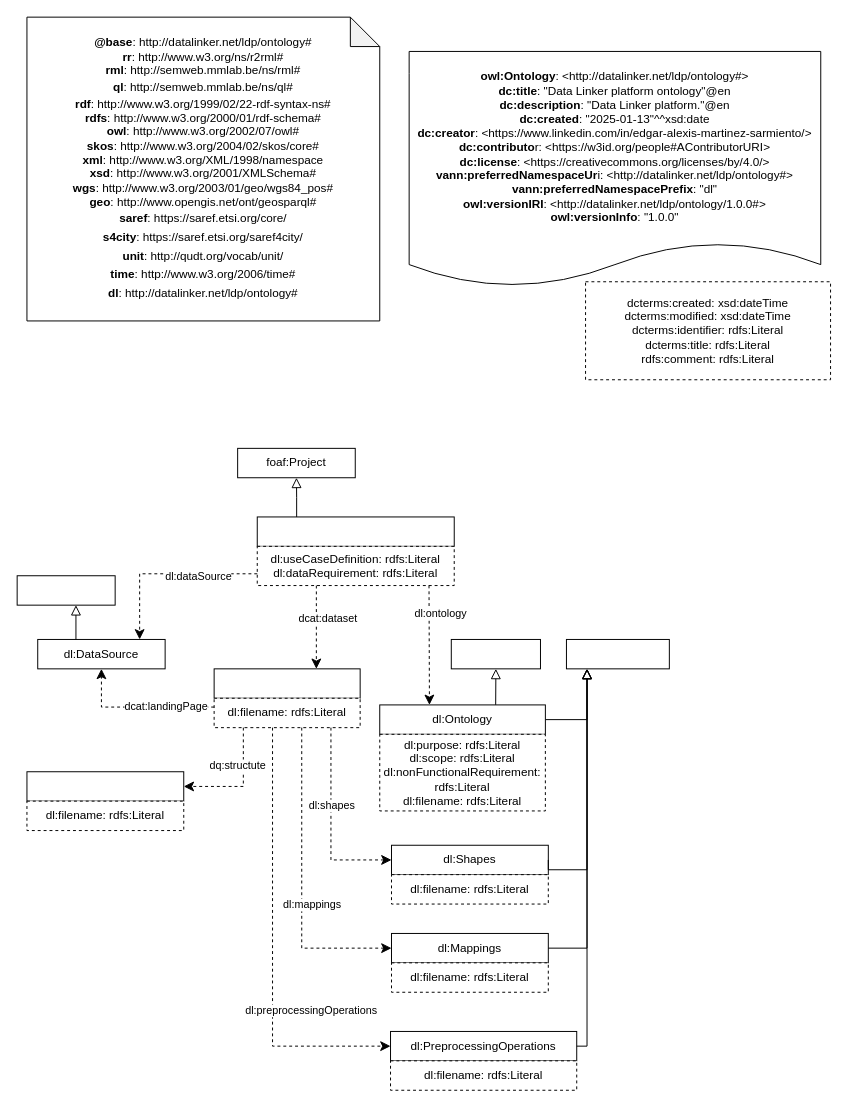
Some shapes in this 848 by 1107 pixel diagram are drawn without their labels. Each missing label, with the centre of its shape:
dcat:Resource: point (617, 653)
dl:Dataset: point (286, 683)
dl:Project: point (355, 531)
dq:DataStructureDefinition: point (105, 786)
foaf:Document: point (65, 590)
owl:Ontology: point (495, 653)
